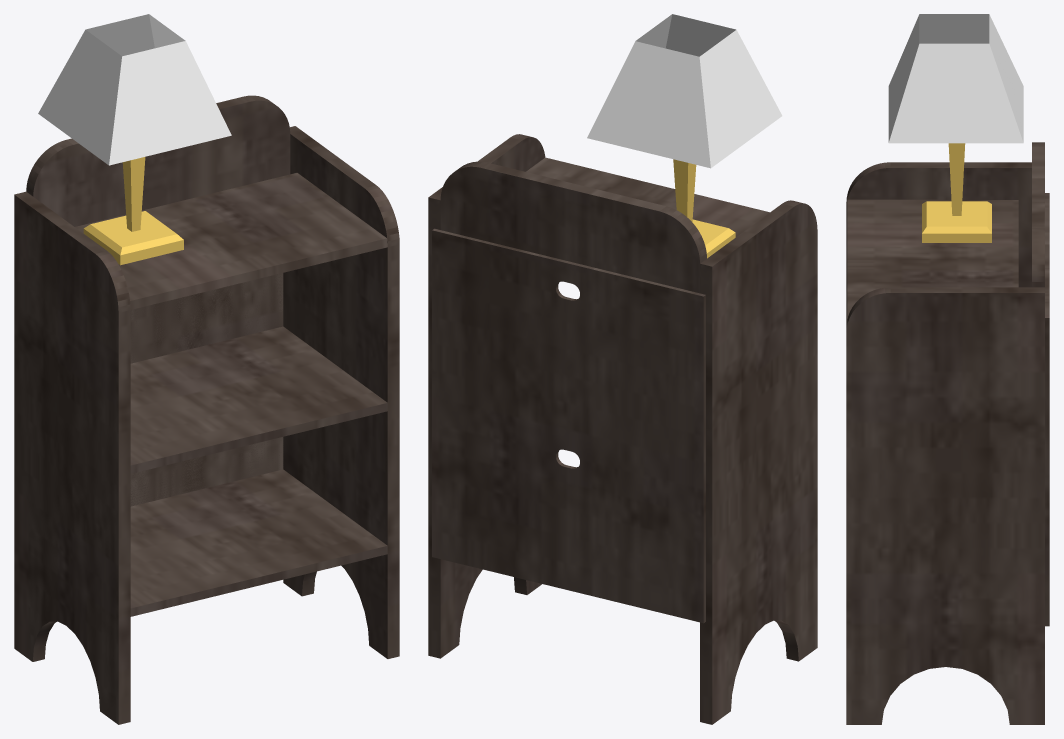
The model's file is Bedside_Table.dae.
The picture shows the model from 3 angles, left to right: view 1: azimuth 30°, elevation 25°; view 2: azimuth 150°, elevation 25°; view 3: azimuth 270°, elevation 25°; orthographic projection. The views are drawn at different scales.
Visible parts, largest first — view 1: Side (×2), Shelf (×2), Lamp (×4), Shelf_Top, Top, Back_Panel; view 2: Back_Panel, Side (×2), Lamp (×4), Top, Shelf_Top; view 3: Side (×2), Lamp (×4), Shelf_Top, Back_Panel, Top.
Part boxes in pixels (box(x1,y1,x2,y2)): Side (×2): box(14, 126, 399, 724); Shelf (×2): box(130, 326, 387, 616); Lamp (×4): box(38, 14, 231, 265); Shelf_Top: box(75, 173, 387, 309); Top: box(26, 95, 290, 226); Back_Panel: box(130, 273, 283, 506); Back_Panel: box(432, 228, 705, 623); Side (×2): box(428, 134, 817, 724); Lamp (×4): box(587, 14, 782, 258); Top: box(440, 161, 706, 293); Shelf_Top: box(526, 157, 769, 237); Side (×2): box(846, 162, 1044, 724); Lamp (×4): box(888, 14, 1023, 242); Shelf_Top: box(846, 199, 1018, 326); Back_Panel: box(1045, 193, 1049, 626); Top: box(1032, 142, 1044, 287).
Bounding box in the file's own units: 17.5 × 11.5 × 37.48.
5 materials, 2 textured.
